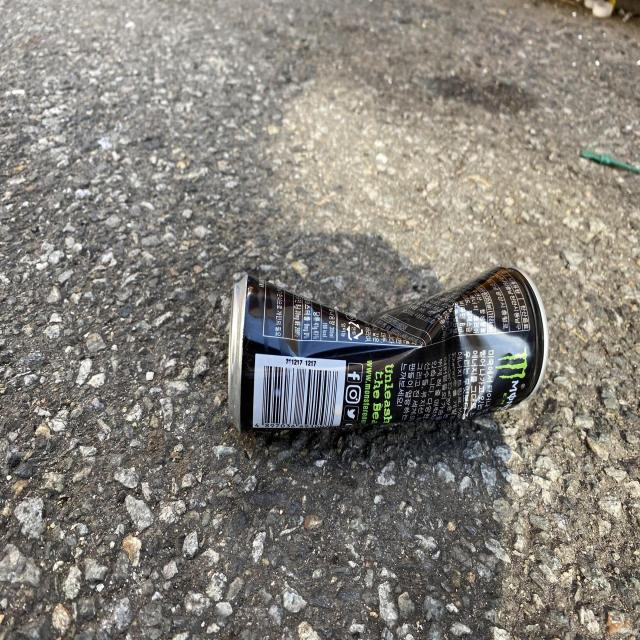can: (228, 267, 549, 430)
